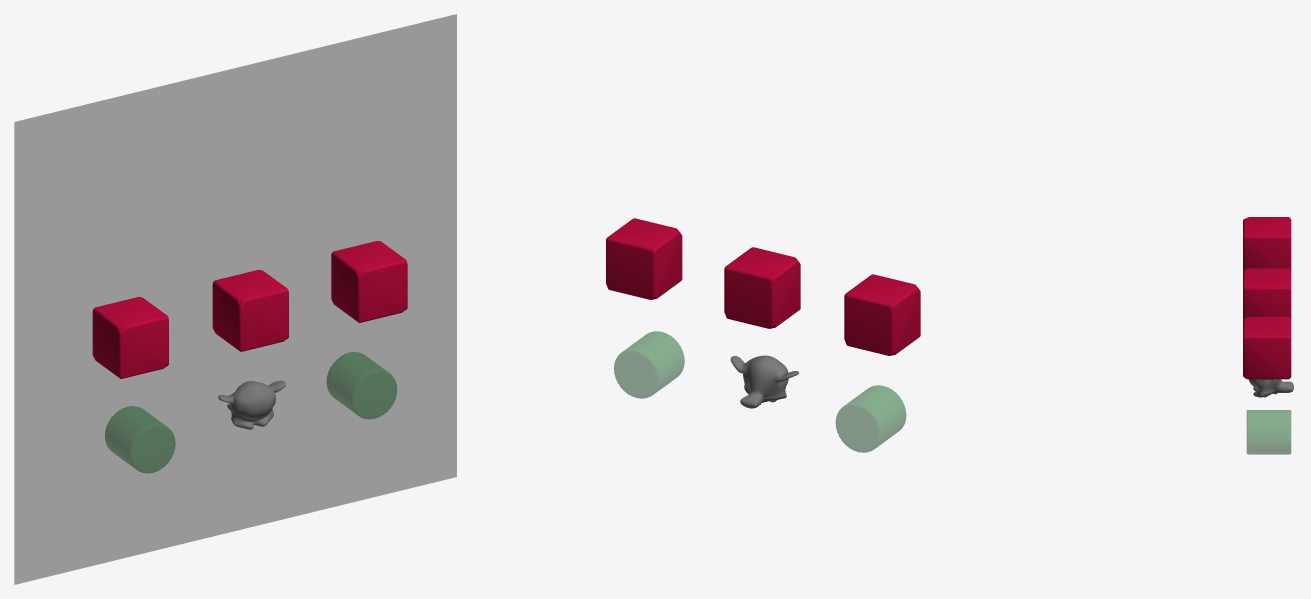
3 renders of one model, left to right at view 1: azimuth 30°, elevation 25°; view 2: azimuth 150°, elevation 25°; view 3: azimuth 270°, elevation 25°, orthographic. The views are drawn at different scales.
Parts seen in each view (by area): view 1: Plane, Cube_002, Cube, Cube_001, Cylinder, Cylinder_001, Suzanne; view 2: Cube_002, Cube, Cube_001, Cylinder_001, Cylinder, Suzanne; view 3: Cube_002, Cube_001, Cube, Cylinder_001, Suzanne.
Part boxes in pixels (x1,y1,x2,y2): Plane: (14, 14, 456, 584); Cube_002: (331, 241, 407, 322); Cube: (212, 270, 288, 351); Cube_001: (92, 297, 168, 378); Cylinder: (105, 406, 175, 473); Cylinder_001: (326, 352, 397, 419); Suzanne: (218, 380, 285, 429); Cube_002: (606, 218, 682, 299); Cube: (724, 247, 800, 328); Cube_001: (844, 274, 920, 355); Cylinder_001: (614, 331, 684, 398); Cylinder: (835, 385, 906, 452); Suzanne: (730, 355, 798, 408); Cube_002: (1243, 316, 1291, 379); Cube_001: (1243, 217, 1291, 270); Cube: (1243, 268, 1291, 319); Cylinder_001: (1246, 410, 1291, 454); Suzanne: (1248, 379, 1293, 397).
Bounding box in the file's own units: 5.05 × 5.05 × 2.88.
